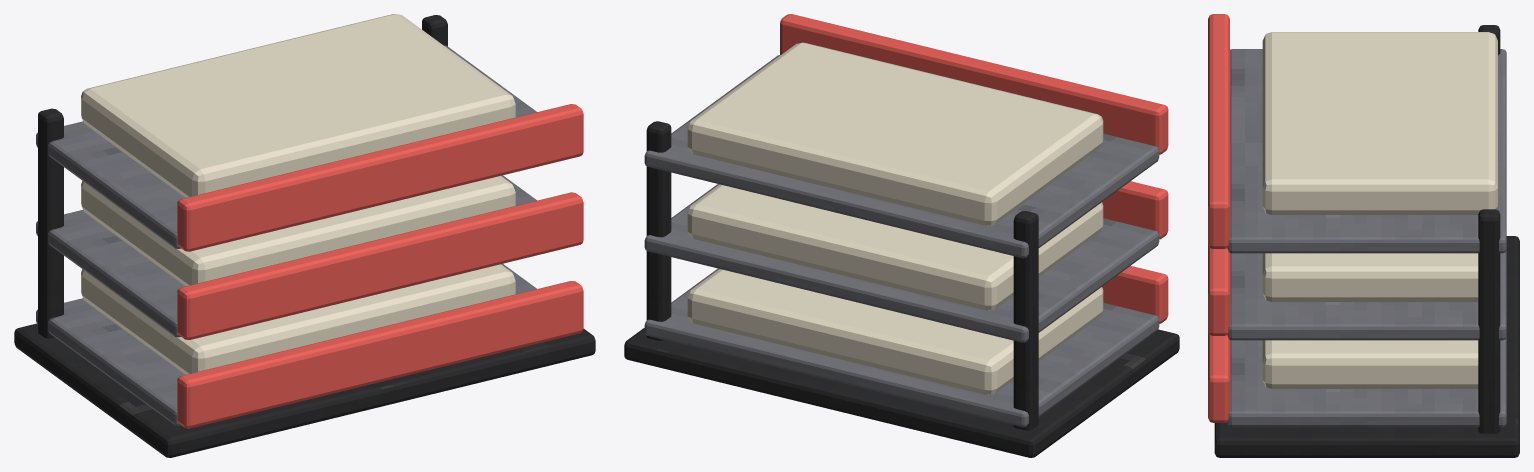
File: lbd_sec_paperwork.glb
The picture shows the model from 3 angles, left to right: view 1: azimuth 30°, elevation 25°; view 2: azimuth 150°, elevation 25°; view 3: azimuth 270°, elevation 25°; orthographic projection. The views are drawn at different scales.
Visible parts, largest first — view 1: sec_paperwork__paper stack_027, sec_paperwork__tray lip_021, sec_paperwork__tray lip_012, sec_paperwork__tray lip_030, sec_paperwork__base_003, sec_paperwork__paper stack_009, sec_paperwork__paper stack_018, sec_paperwork__tray_024, sec_paperwork__tray_006, sec_paperwork__tray_015, sec_paperwork__post_033, sec_paperwork__post_036; view 2: sec_paperwork__paper stack_027, sec_paperwork__paper stack_018, sec_paperwork__paper stack_009, sec_paperwork__base_003, sec_paperwork__tray_024, sec_paperwork__tray_015, sec_paperwork__tray_006, sec_paperwork__tray lip_030, sec_paperwork__post_033, sec_paperwork__post_036, sec_paperwork__tray lip_021, sec_paperwork__tray lip_012; view 3: sec_paperwork__paper stack_027, sec_paperwork__tray_024, sec_paperwork__base_003, sec_paperwork__tray_006, sec_paperwork__tray_015, sec_paperwork__paper stack_009, sec_paperwork__paper stack_018, sec_paperwork__tray lip_030, sec_paperwork__post_036, sec_paperwork__tray lip_012, sec_paperwork__tray lip_021.
Boxes of the visible parts, x1=… form: sec_paperwork__paper stack_027: x1=81, y1=14, x2=515, y2=197; sec_paperwork__tray lip_021: x1=177, y1=192, x2=583, y2=339; sec_paperwork__tray lip_012: x1=177, y1=281, x2=583, y2=428; sec_paperwork__tray lip_030: x1=177, y1=104, x2=583, y2=251; sec_paperwork__base_003: x1=14, y1=323, x2=595, y2=457; sec_paperwork__paper stack_009: x1=81, y1=264, x2=515, y2=374; sec_paperwork__paper stack_018: x1=81, y1=176, x2=515, y2=286; sec_paperwork__tray_024: x1=36, y1=45, x2=536, y2=248; sec_paperwork__tray_006: x1=36, y1=264, x2=536, y2=425; sec_paperwork__tray_015: x1=36, y1=175, x2=536, y2=337; sec_paperwork__post_033: x1=38, y1=108, x2=63, y2=338; sec_paperwork__post_036: x1=422, y1=15, x2=447, y2=46; sec_paperwork__paper stack_027: x1=687, y1=42, x2=1103, y2=225; sec_paperwork__paper stack_018: x1=687, y1=184, x2=1103, y2=310; sec_paperwork__paper stack_009: x1=687, y1=269, x2=1103, y2=394; sec_paperwork__base_003: x1=624, y1=328, x2=1179, y2=457; sec_paperwork__tray_024: x1=644, y1=55, x2=1159, y2=258; sec_paperwork__tray_015: x1=644, y1=184, x2=1159, y2=342; sec_paperwork__tray_006: x1=644, y1=268, x2=1159, y2=427; sec_paperwork__tray lip_030: x1=780, y1=14, x2=1168, y2=154; sec_paperwork__post_033: x1=1013, y1=211, x2=1038, y2=430; sec_paperwork__post_036: x1=646, y1=121, x2=671, y2=340; sec_paperwork__tray lip_021: x1=1102, y1=181, x2=1168, y2=239; sec_paperwork__tray lip_012: x1=1102, y1=266, x2=1168, y2=323; sec_paperwork__paper stack_027: x1=1262, y1=32, x2=1497, y2=214; sec_paperwork__tray_024: x1=1227, y1=49, x2=1506, y2=253; sec_paperwork__base_003: x1=1214, y1=236, x2=1519, y2=457; sec_paperwork__tray_006: x1=1227, y1=337, x2=1506, y2=427; sec_paperwork__tray_015: x1=1227, y1=250, x2=1506, y2=340; sec_paperwork__paper stack_009: x1=1262, y1=340, x2=1478, y2=388; sec_paperwork__paper stack_018: x1=1262, y1=253, x2=1478, y2=301; sec_paperwork__tray lip_030: x1=1208, y1=14, x2=1229, y2=248; sec_paperwork__post_036: x1=1478, y1=209, x2=1500, y2=433; sec_paperwork__tray lip_012: x1=1208, y1=331, x2=1229, y2=422; sec_paperwork__tray lip_021: x1=1208, y1=244, x2=1229, y2=335.
Size of the model in its own units: 0.56 by 0.3175 by 0.3575.
Materials: 4 (2 with a texture image).
